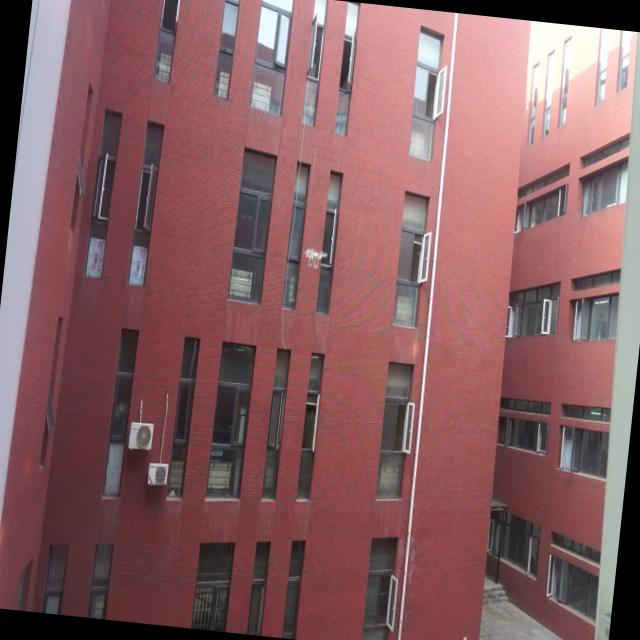drone: (302, 244, 328, 272)
